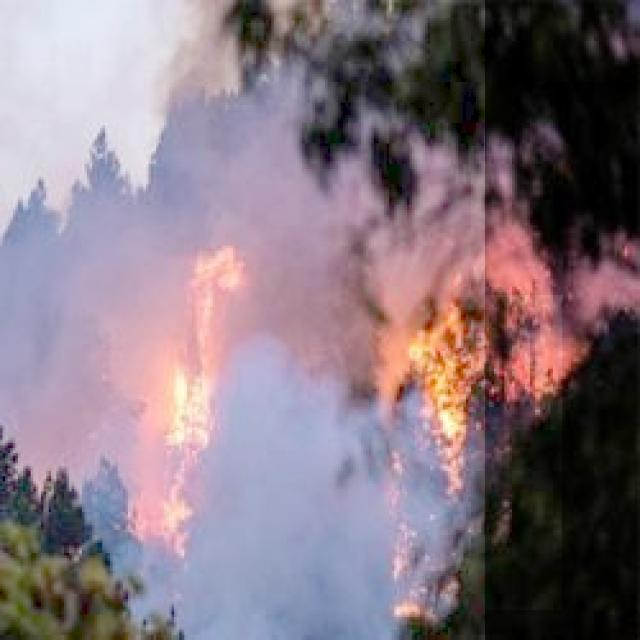Fire: (386, 295, 562, 610), (150, 244, 236, 557)
Smoke: (0, 0, 485, 640)
